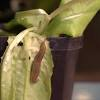slug: (30, 40, 46, 83)
